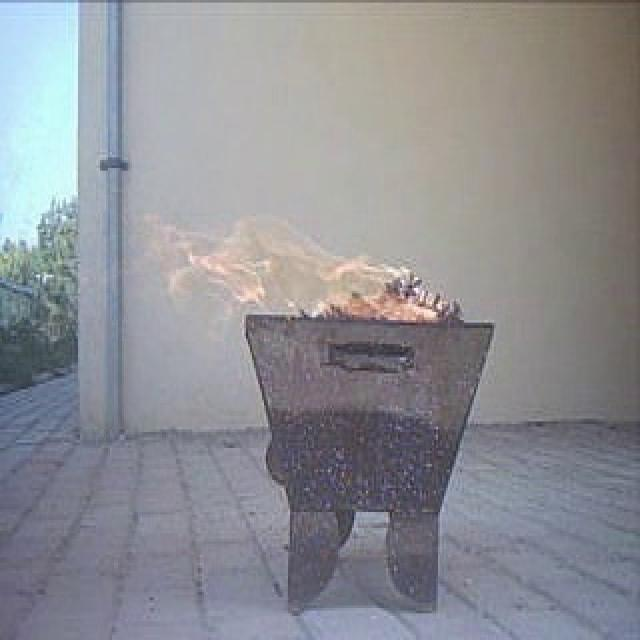fire: (213, 217, 437, 320)
